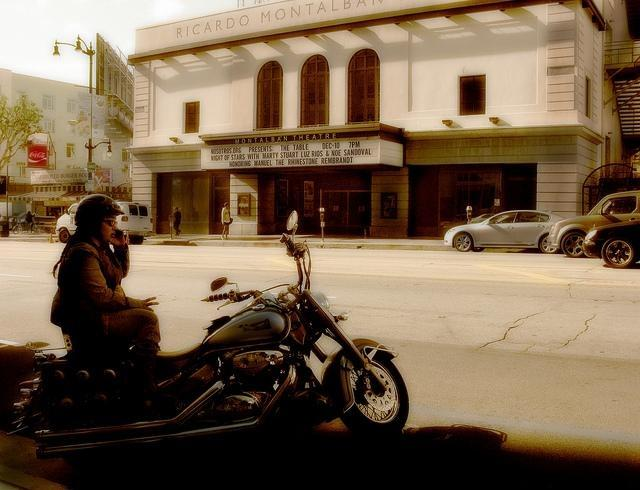car: (548, 191, 640, 258), (443, 210, 567, 254), (54, 202, 154, 246), (585, 220, 640, 268)
motorcycle: (12, 210, 410, 460)
